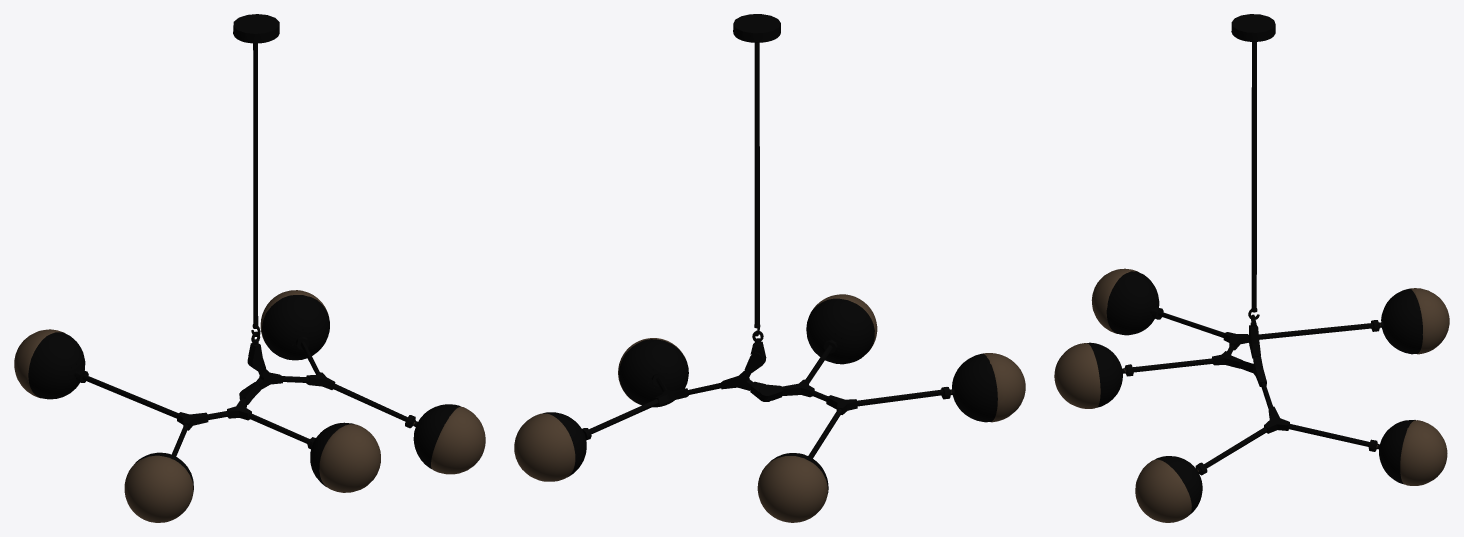
File: deng.FBX
3 renders of one model, left to right at view 1: azimuth 30°, elevation 25°; view 2: azimuth 150°, elevation 25°; view 3: azimuth 270°, elevation 25°, orthographic. The views are drawn at different scales.
Parts seen in each view (by area): view 1: light; view 2: light; view 3: light.
Part boxes in pixels (box(x1,y1,x2,y2)): light: box(14, 14, 485, 522); light: box(514, 14, 1025, 522); light: box(1054, 14, 1449, 522).
Bounding box in the file's own units: 1370 × 1318 × 1572.
